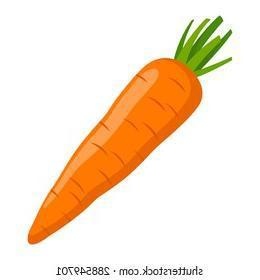carrot: (11, 13, 234, 251)
